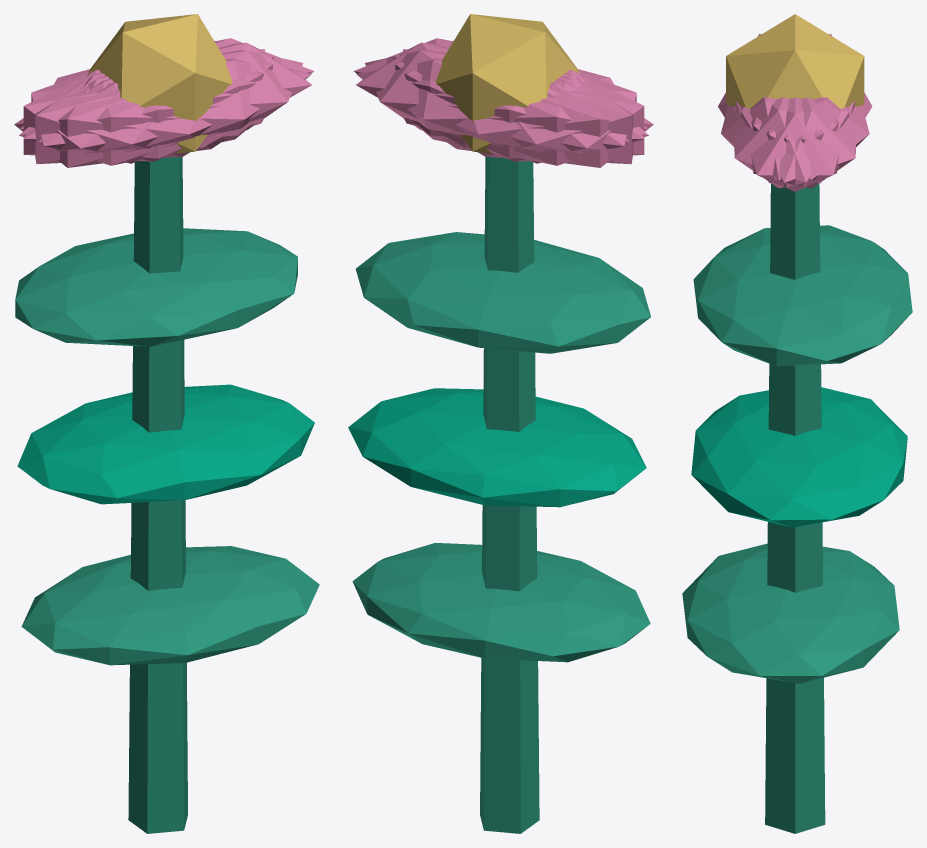
File: sterculia-striata.glb
The picture shows the model from 3 angles, left to right: view 1: azimuth 30°, elevation 25°; view 2: azimuth 150°, elevation 25°; view 3: azimuth 270°, elevation 25°; orthographic projection.
Parts seen in each view (by area): view 1: stem, leaf0, leaf1, leaf2, center, petal1, petal6, petal2, petal5, petal7, petal0, petal4 (+2 smaller); view 2: leaf2, leaf1, stem, leaf0, center, petal8, petal3, petal7, petal4, petal2, petal0, petal5 (+2 smaller); view 3: leaf1, leaf2, leaf0, stem, center, petal0, petal4, petal5, petal1, petal8.
Part boxes in pixels (x1,y1,x2,y2): stem: (128,157,187,833); leaf0: (21,546,319,665); leaf1: (17,384,314,504); leaf2: (15,228,297,346); center: (88,14,232,153); petal1: (19,58,311,165); petal6: (14,71,226,167); petal2: (35,49,264,164); petal5: (39,50,302,158); petal7: (23,55,273,161); petal0: (88,42,311,148); petal4: (20,38,313,139); leaf2: (355,232,650,353); leaf1: (348,388,646,507); stem: (480,157,539,833); leaf0: (352,542,650,662); center: (435,14,579,153); petal8: (356,58,648,165); petal3: (442,71,653,167); petal7: (403,49,633,164); petal4: (365,50,629,158); petal2: (394,55,644,161); petal0: (356,42,580,148); petal5: (354,38,647,139); leaf1: (691,387,907,527); leaf2: (693,225,912,366); leaf0: (682,543,899,683); stem: (765,183,825,833); center: (726,14,864,108); petal0: (735,97,854,191); petal4: (741,97,856,188); petal5: (734,97,849,188); petal1: (721,97,838,180); petal8: (751,97,869,180).
Bounding box in the file's own units: 0.1452 × 0.3848 × 0.1019.
